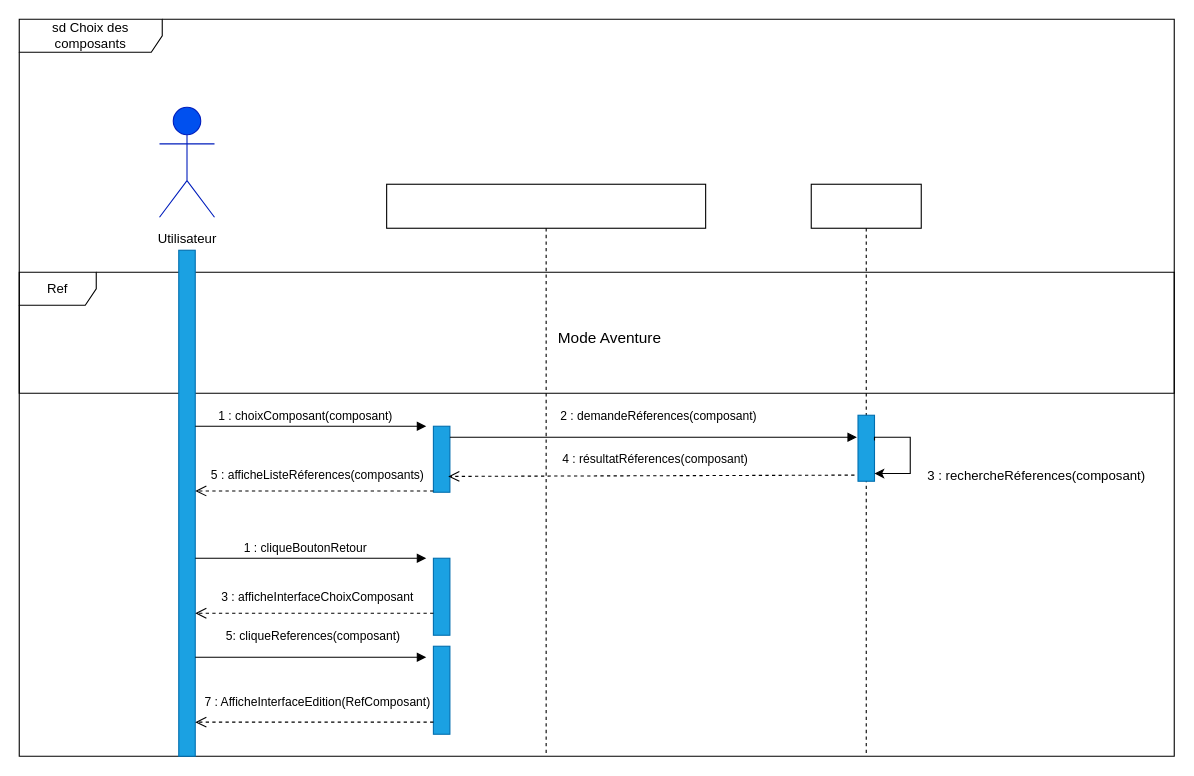
This 1194x776 diagram has some shape labels left out. Here are the shapes that lost their labels. From the top down, the box of each, then its label:
(386, 183, 706, 756): :Système
(810, 183, 921, 756): :BDD
